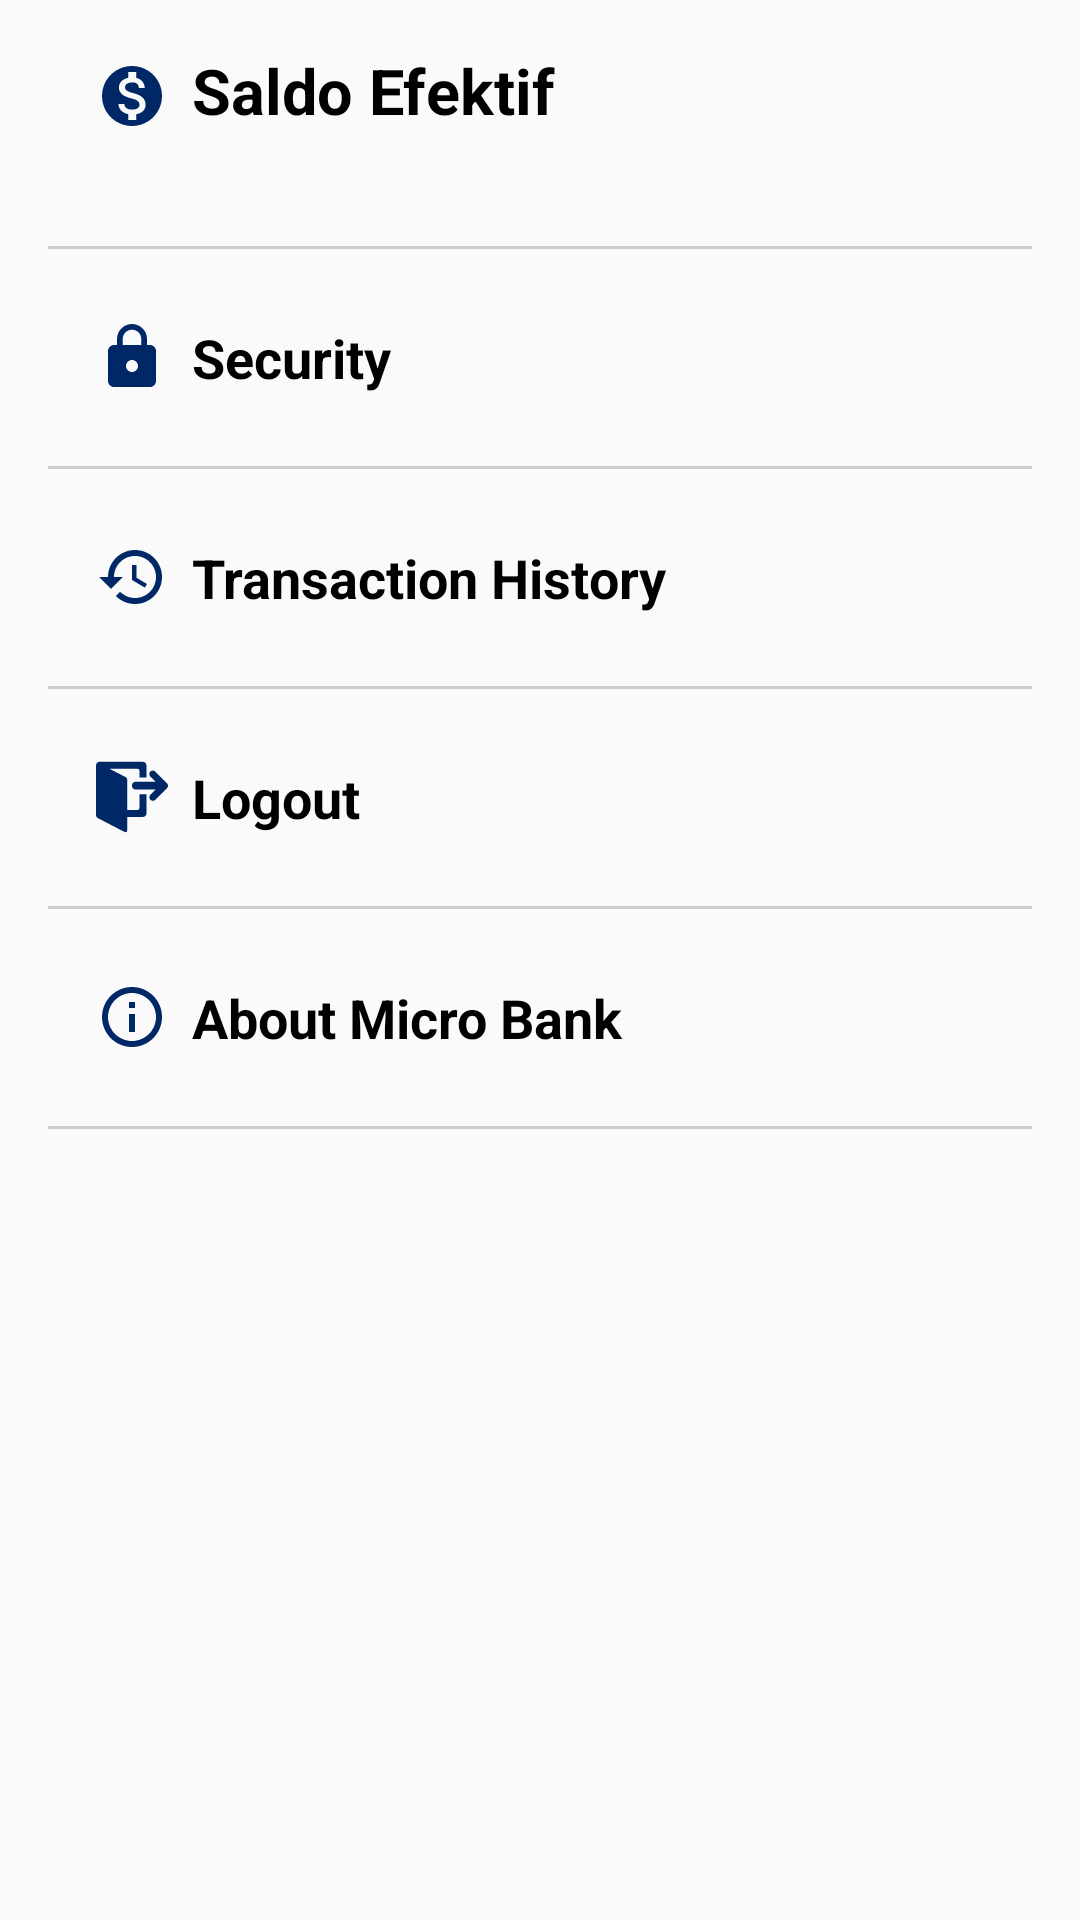

Named icons in this screenshot (1080px×1920px) and their centers, [x,y]:
lock: [132,355]
monetization: [132,96]
